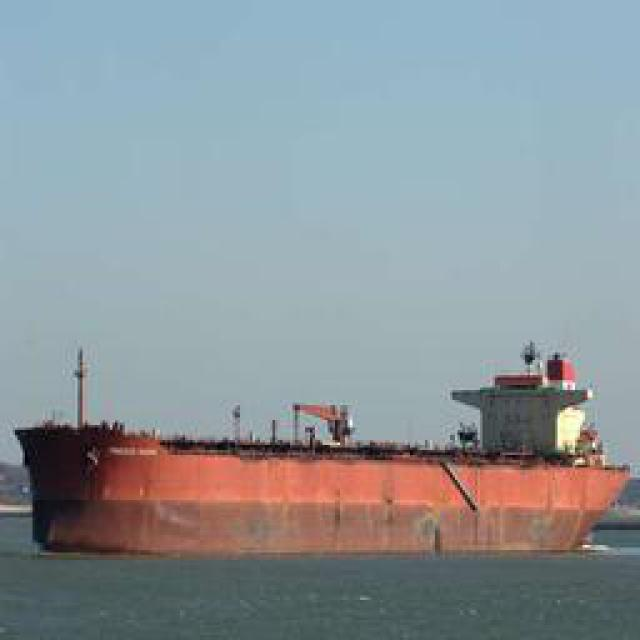Ship: (6, 421, 639, 566)
